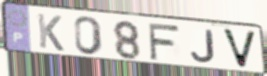0: (73, 15, 104, 57)
8: (111, 18, 141, 60)
F: (146, 21, 181, 61)
J: (190, 29, 217, 65)
K: (35, 12, 66, 53)
V: (220, 27, 259, 71)
